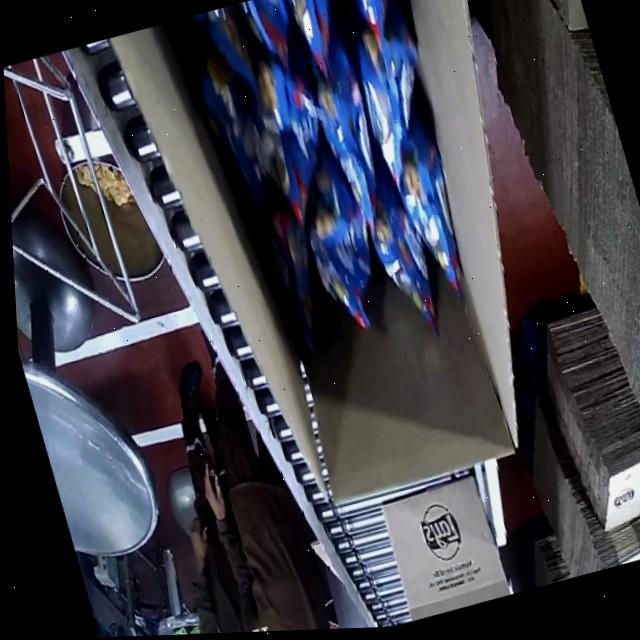PAPRIKA: (178, 0, 500, 378)
